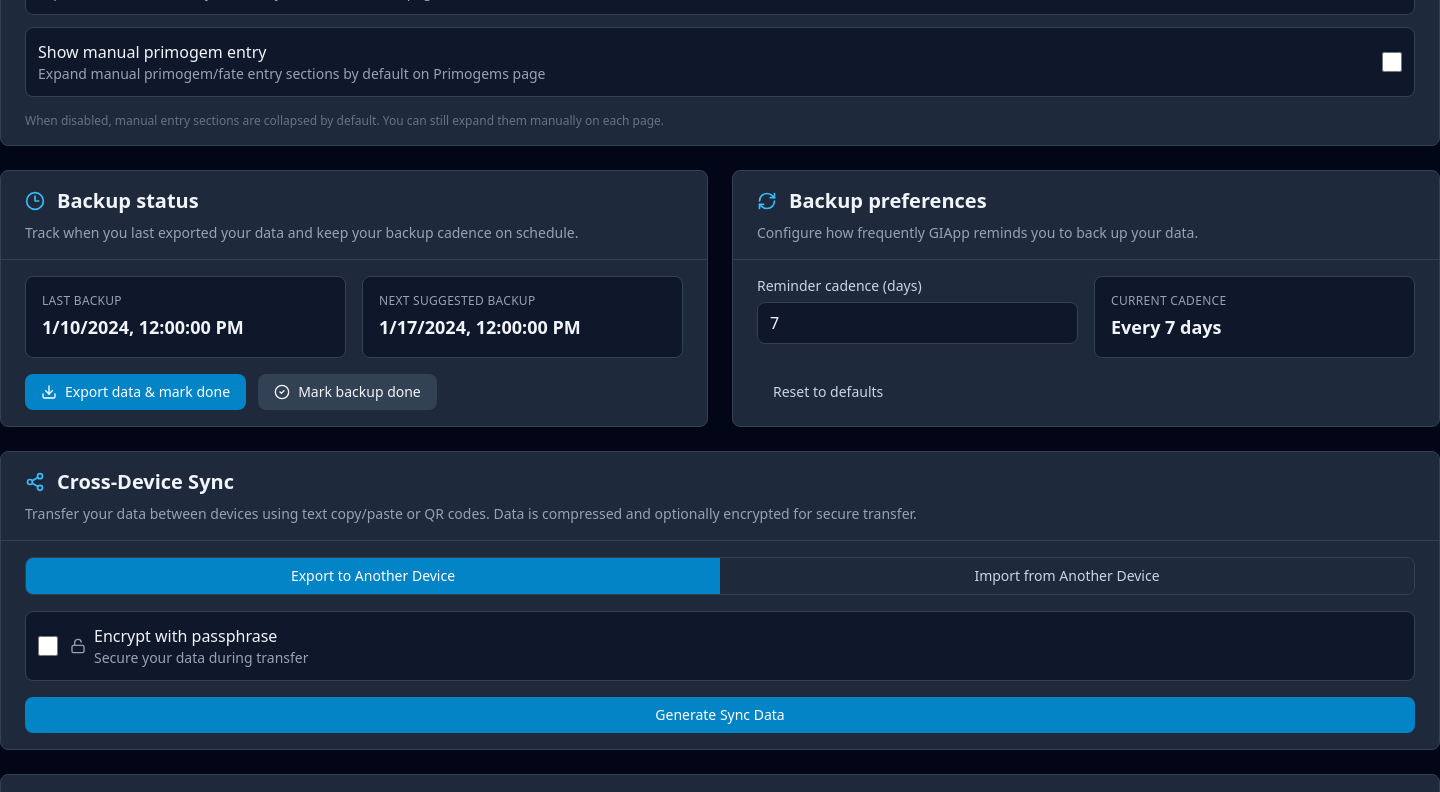
SyncPage › backup actions › shows status message after marking backup
(page scrolled)
Click the button "Mark backup done": (347, 392) [258, 374, 437, 410]
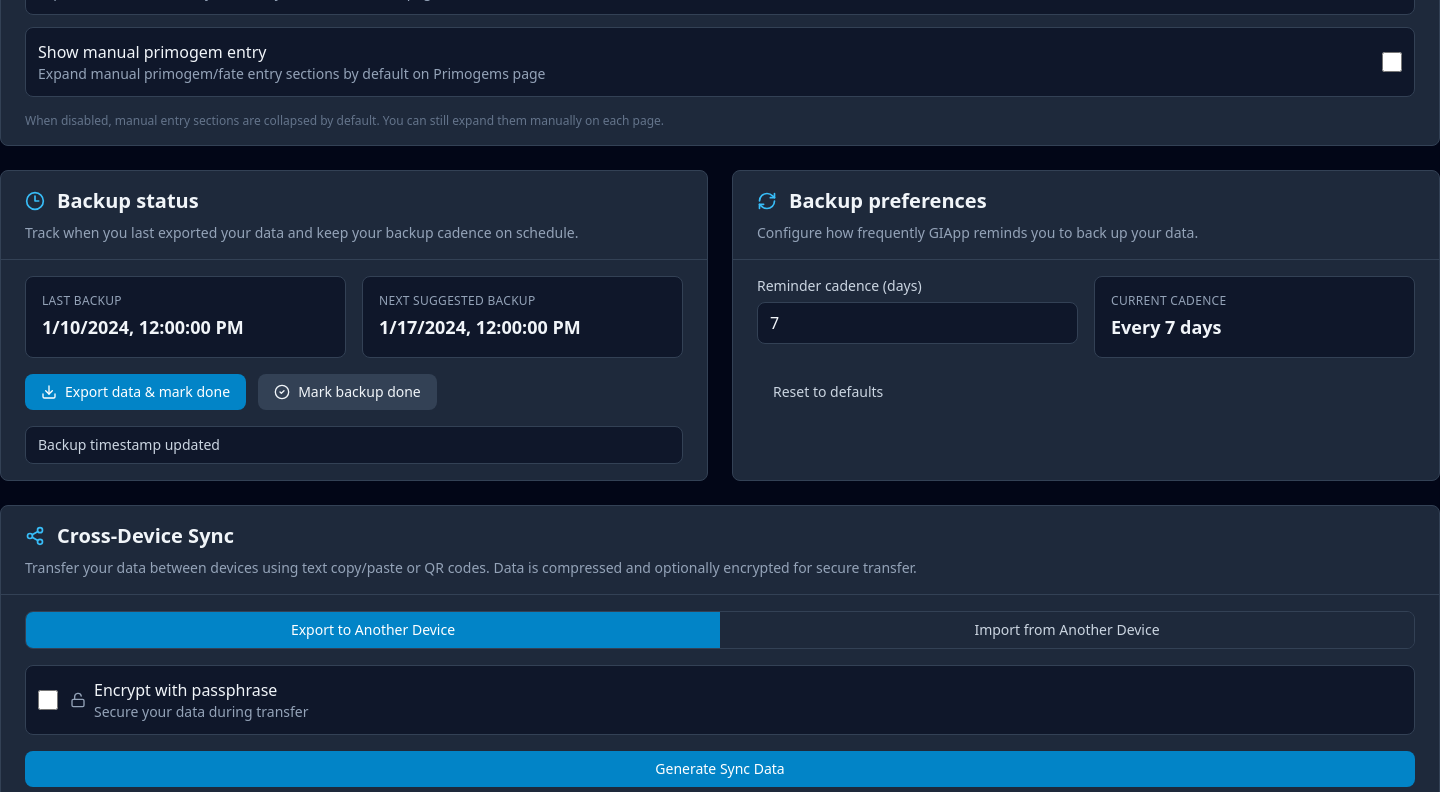
Expected: the text "Backup timestamp updated" is shown, [25, 426, 683, 464]
